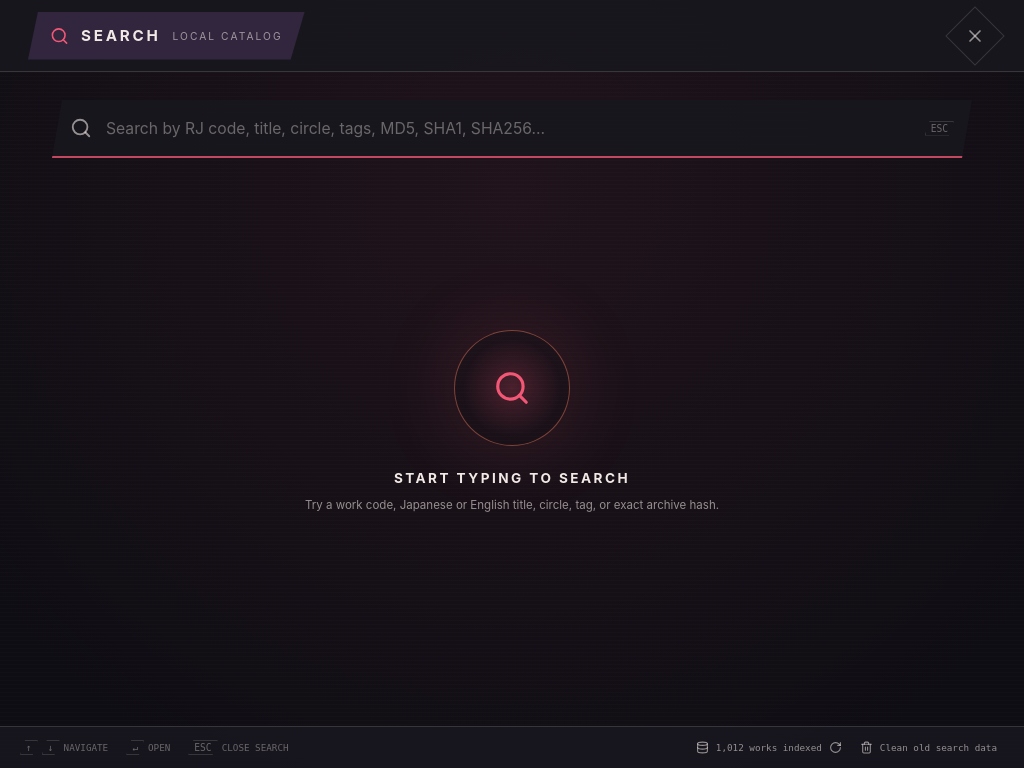
Test: SearchModal index lifecycle › cleans old derived generations without hiding the ready index
The width and height of the screenshot is (1024, 768).
Click the button "Clean old search data" at coordinates (928, 748), box [853,737,1004,758]
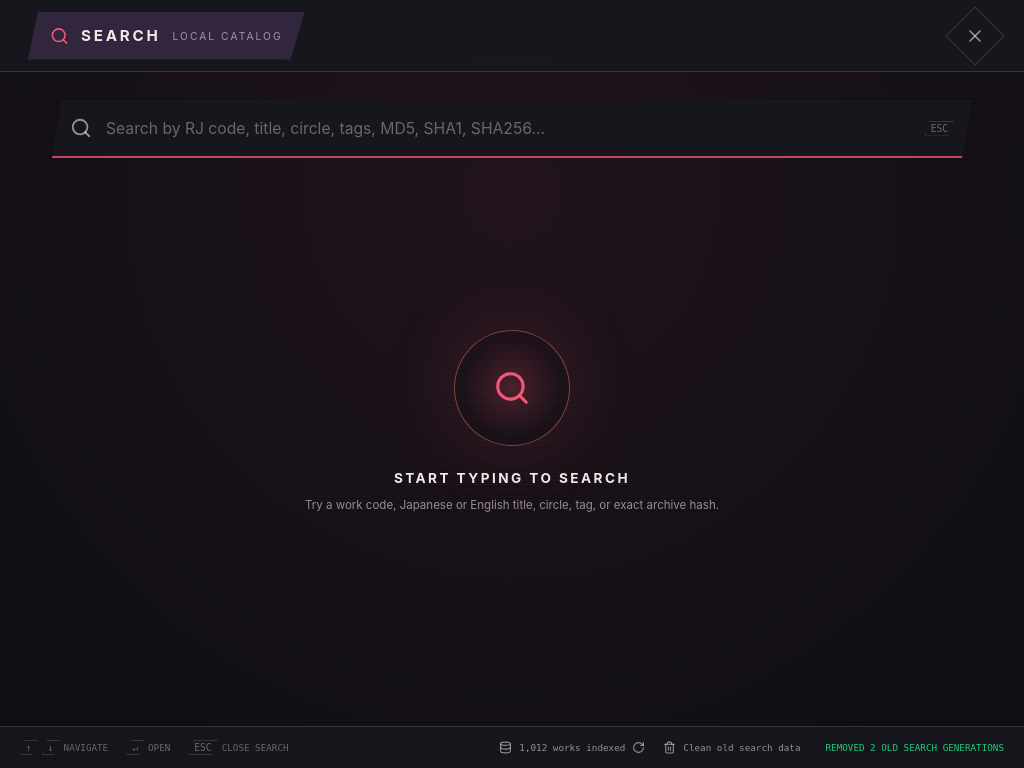
Expected: the button "1,012 works indexed" is shown, [492,737,652,758]
Now the text "Removed 2 old search generations" is shown, box [826,742,1004,753]
